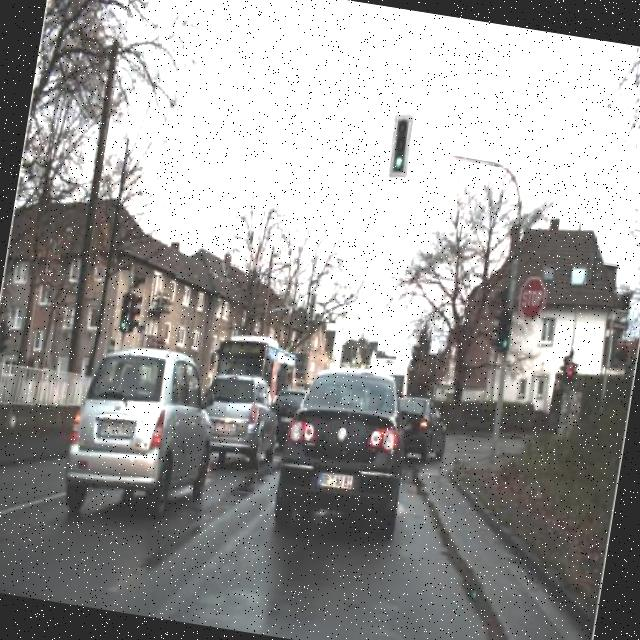Stop: (515, 272, 551, 325)
